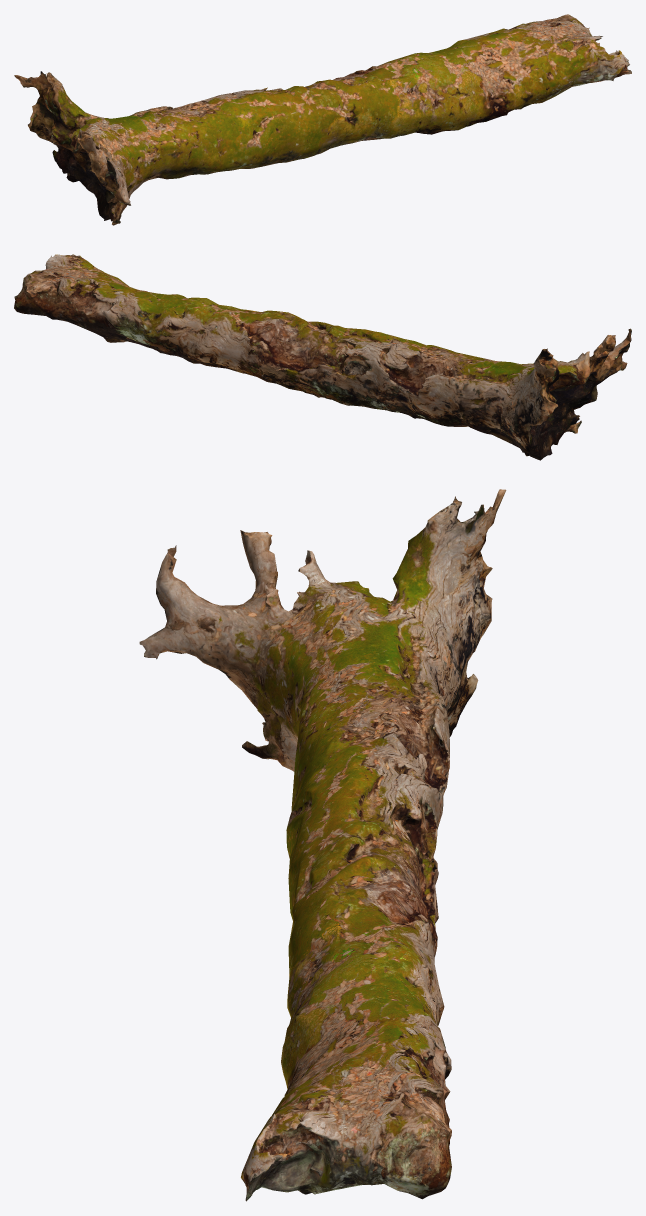
File: mossy_tree_qbtt7_mid.glb
The picture shows the model from 3 angles, top to bottom: view 1: azimuth 30°, elevation 25°; view 2: azimuth 150°, elevation 25°; view 3: azimuth 270°, elevation 25°; orthographic projection. The views are drawn at different scales.
Parts seen in each view (by area): view 1: qbtt7_LOD0_TIER2_000; view 2: qbtt7_LOD0_TIER2_000; view 3: qbtt7_LOD0_TIER2_000.
Part boxes in pixels (x1,y1,x2,y2): qbtt7_LOD0_TIER2_000: (14, 14, 631, 225); qbtt7_LOD0_TIER2_000: (14, 254, 631, 460); qbtt7_LOD0_TIER2_000: (139, 489, 506, 1201).
Size of the model in its own units: 7.79 by 1.83 by 2.24.
1 material, 1 textured.
